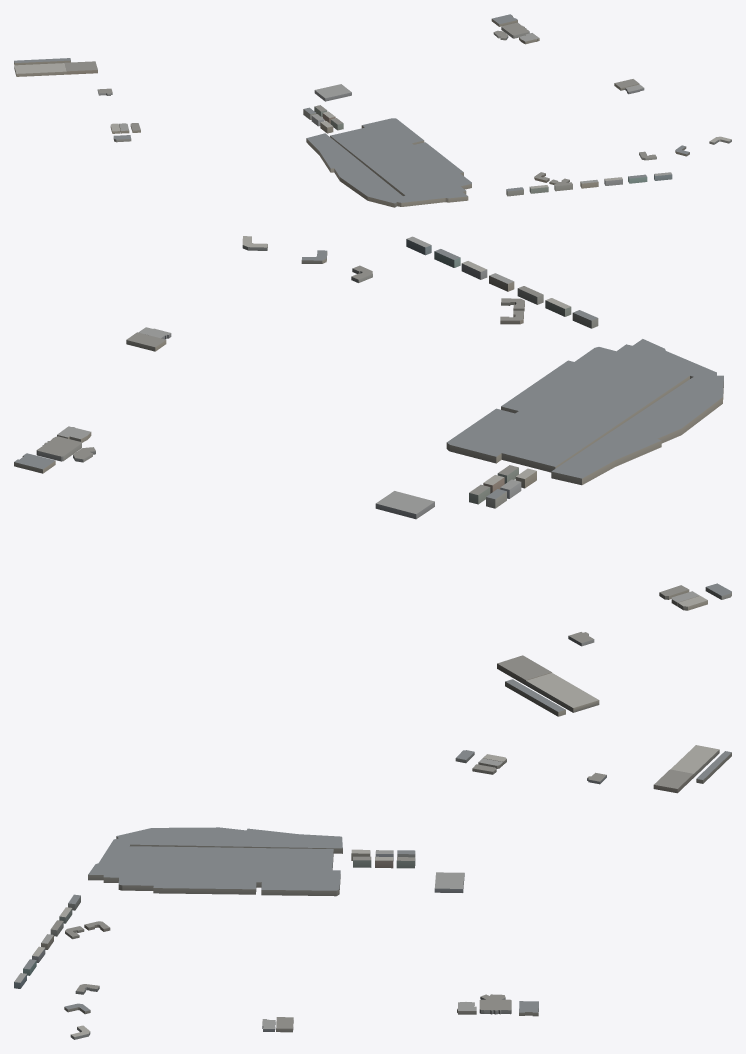
Rendered from bld_19_10.fbx.
3 views of the same model, one above another, from view 1: azimuth 30°, elevation 25°; view 2: azimuth 150°, elevation 25°; view 3: azimuth 270°, elevation 25° (orthographic). The views are drawn at different scales.
Visible parts, largest first — view 1: bld_19_10_LOD0; view 2: bld_19_10_LOD0; view 3: bld_19_10_LOD0.
Part boxes in pixels (bbox=[...]): bld_19_10_LOD0: bbox=[14, 14, 731, 207]; bld_19_10_LOD0: bbox=[14, 236, 731, 716]; bld_19_10_LOD0: bbox=[14, 745, 731, 1039].
Size of what is drawn, in the model's own units: 1958 by 23.59 by 2041.
